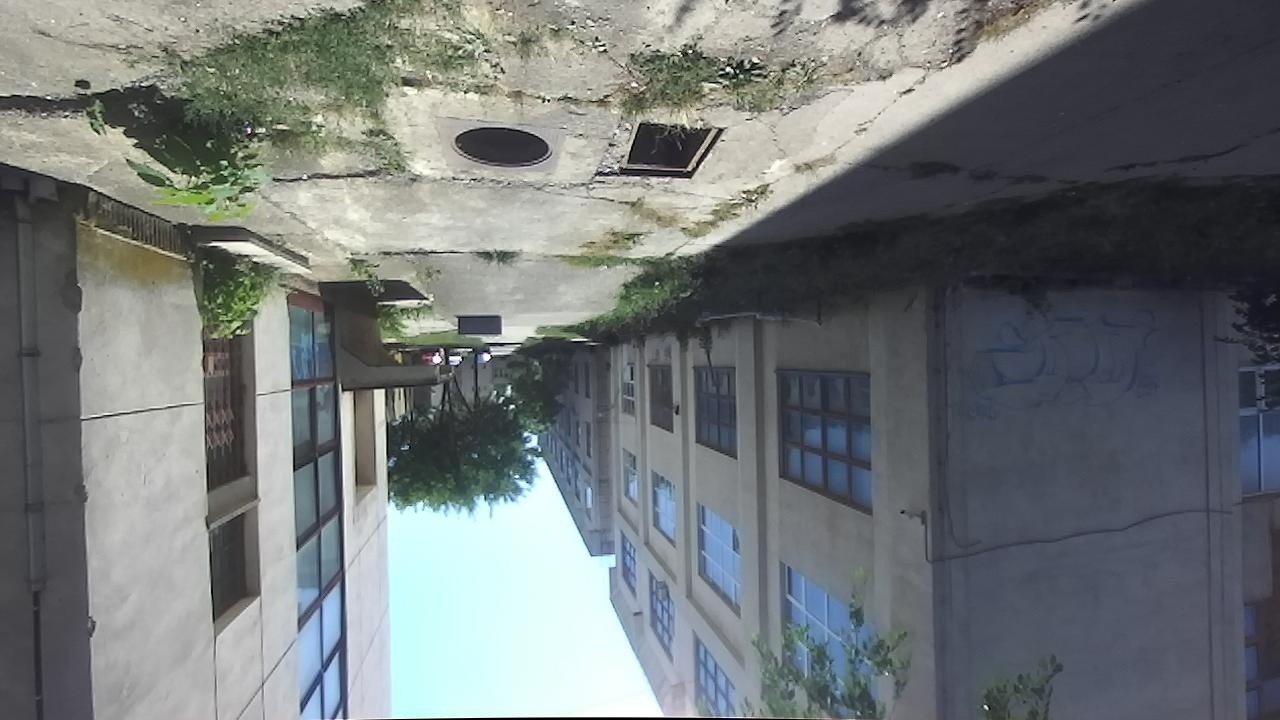drain: (609, 117, 730, 182), (446, 122, 558, 171)
